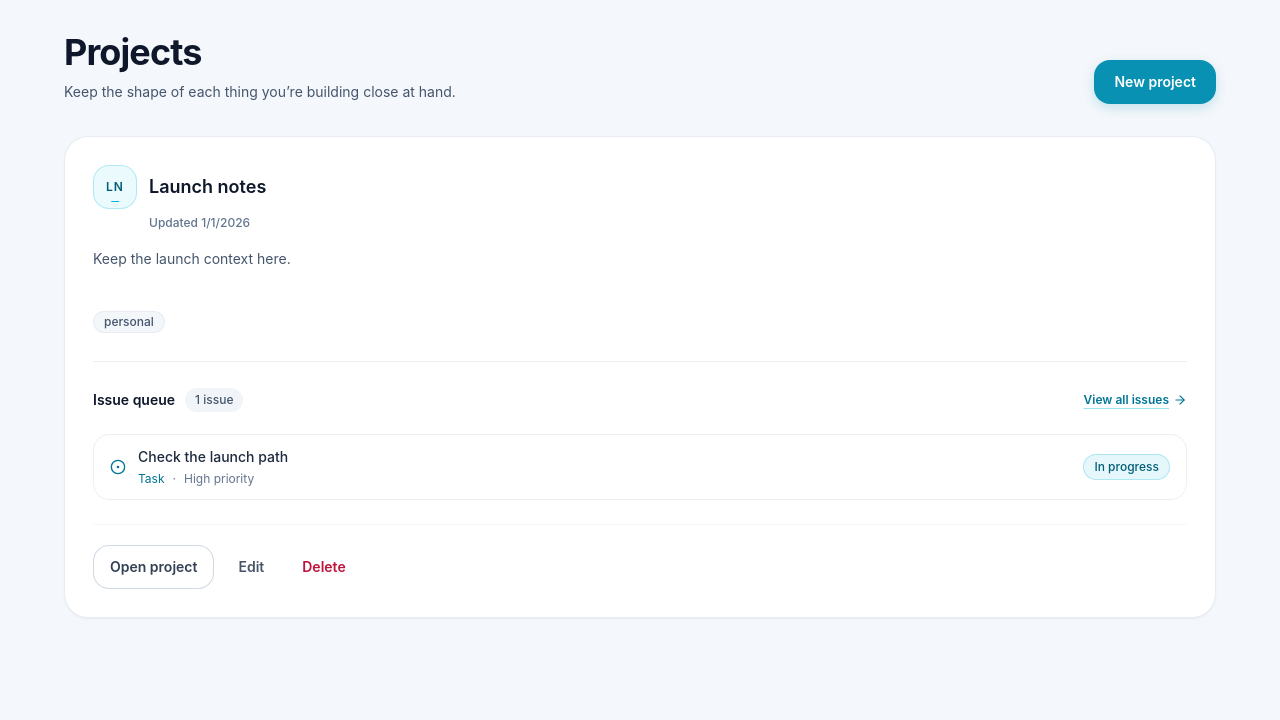
Scenario: ProjectsPage › keeps a failed create mutation visible with an actionable error
Expected: the link "Launch notes" is shown, [149,176,266,197]
Click the button "New project": {"x": 1155, "y": 82} [1094,60,1216,104]
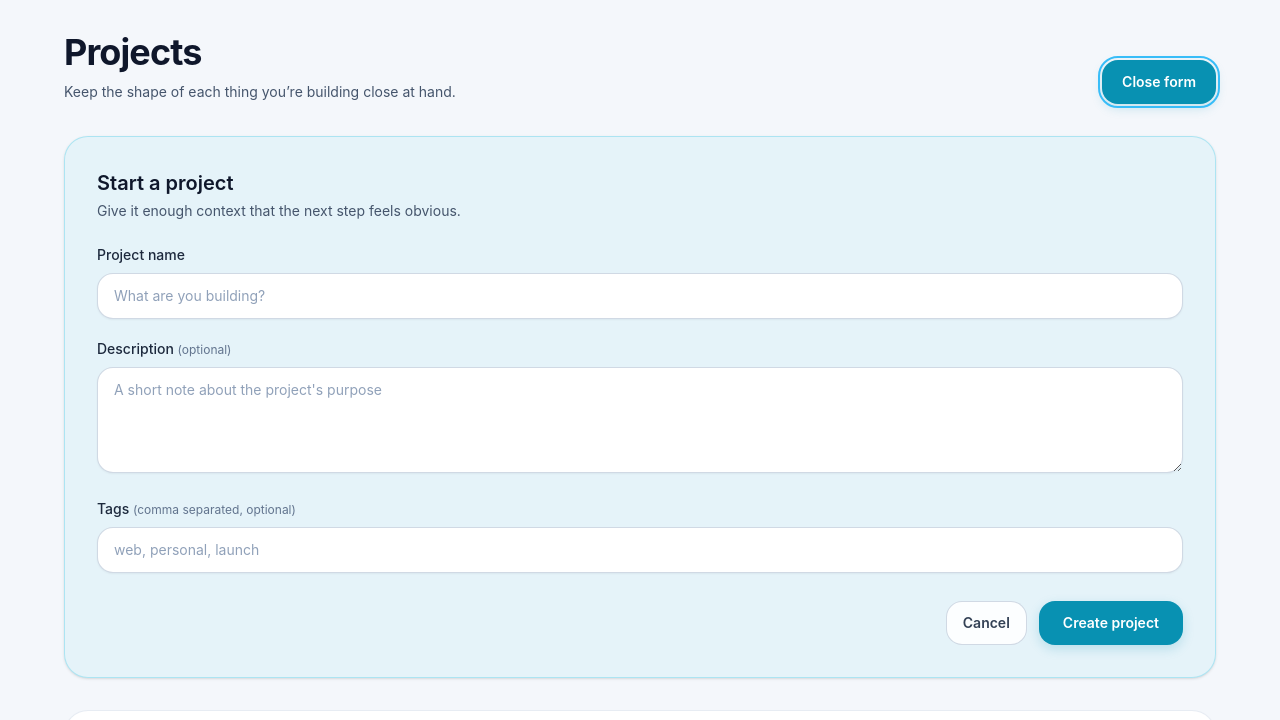
In the field labelled "Project name": {"x": 640, "y": 296} [97,273,1183,319], type "Broken project"
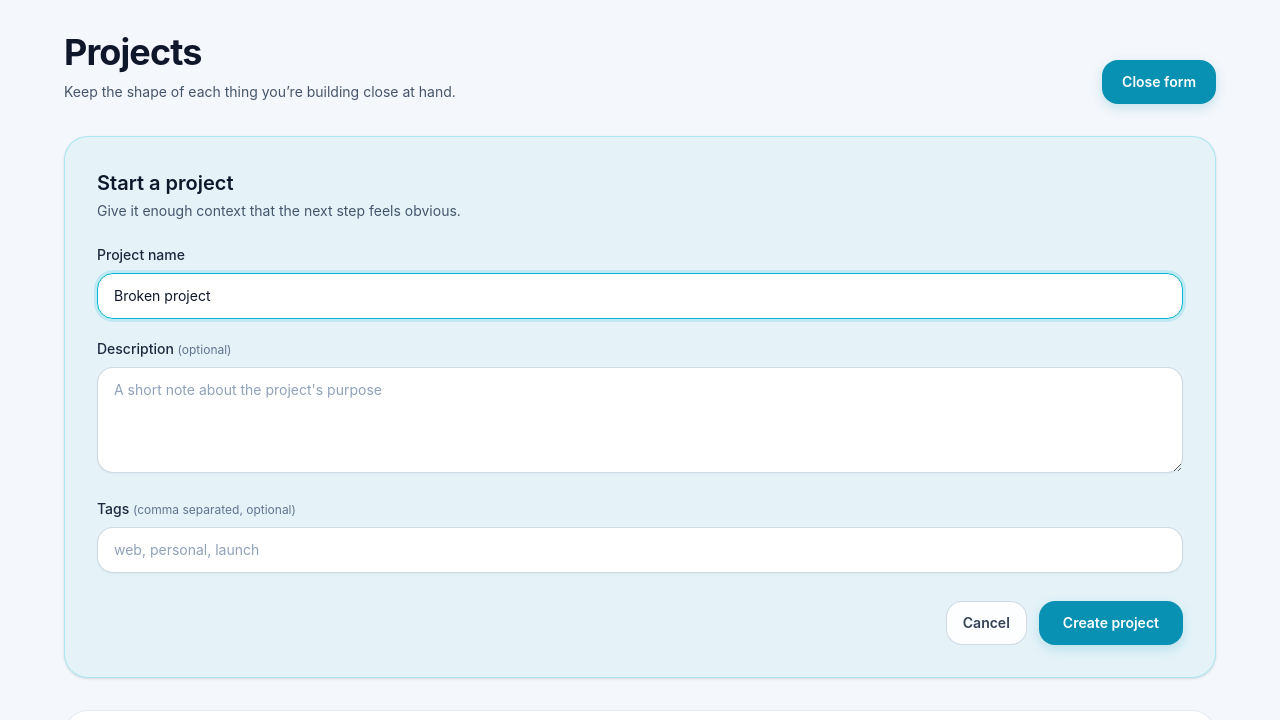
Click the button "Create project": {"x": 1111, "y": 623} [1039,601,1183,645]
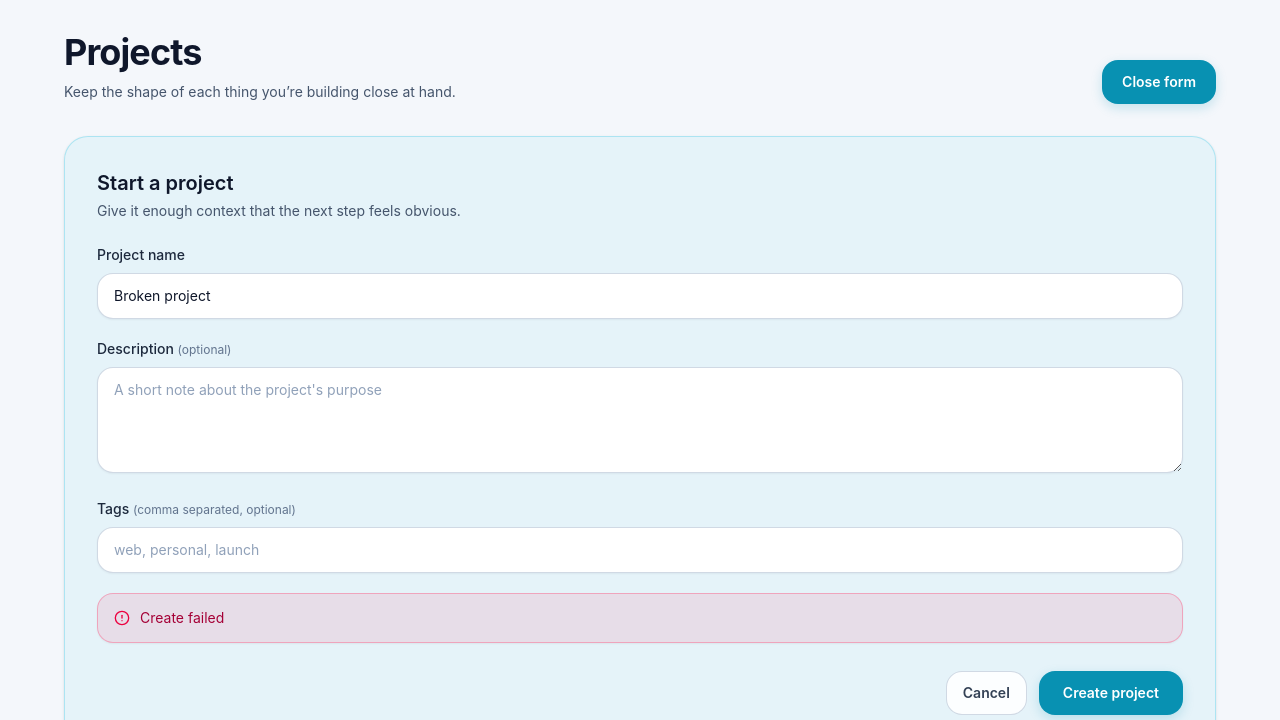
Result: the heading "Start a project" is shown at [97,171,234,195]
Result: the message reads "Create failed" at [140,609,224,626]
